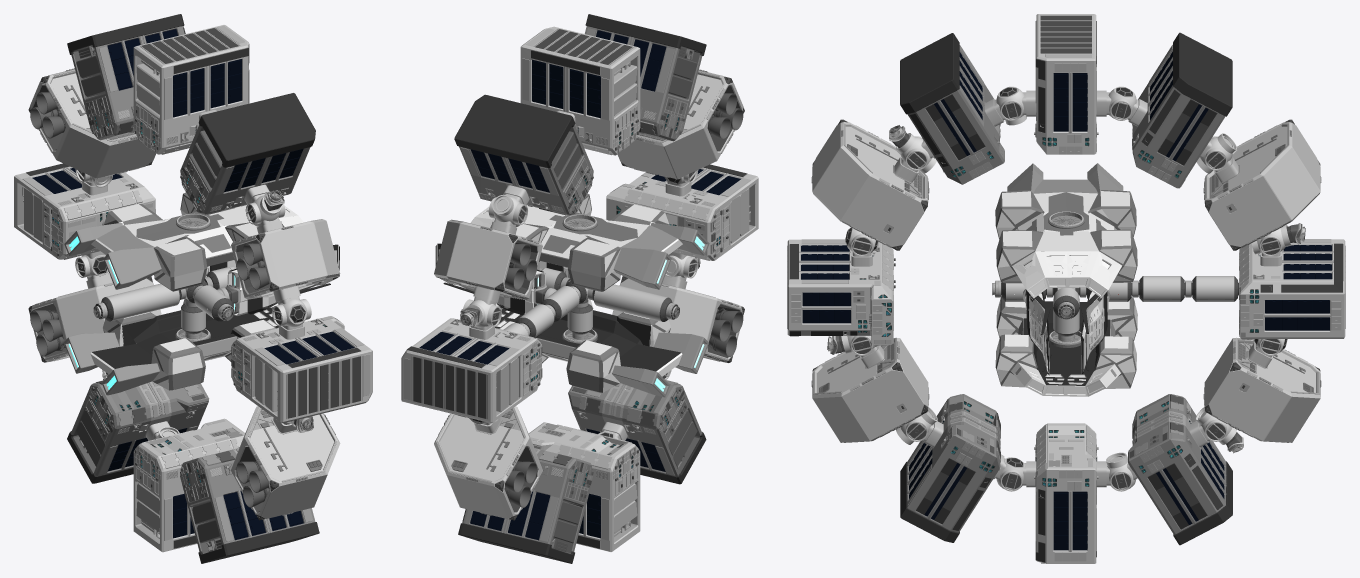
File: endurance.glb
The picture shows the model from 3 angles, left to right: view 1: azimuth 30°, elevation 25°; view 2: azimuth 150°, elevation 25°; view 3: azimuth 270°, elevation 25°; orthographic projection. The views are drawn at different scales.
Visible parts, largest first — view 1: Command_Tiles_0, Command_Non_Metal_0, Command_Metal_0, Engine_Tiles3_0, Object_5, Object_14, Object_7, Command_Tiles2_0, Engine_RollingShuttle_0, Object_18, Engine_Metal_0, Object_9 (+2 smaller); view 2: Command_Tiles_0, Command_Non_Metal_0, Command_Metal_0, Engine_Tiles3_0, Object_5, Object_14, Command_Tiles2_0, Object_7, Engine_RollingShuttle_0, Object_18, Engine_Metal_0, Engine_Non_Metal_0 (+2 smaller); view 3: Command_Tiles_0, Command_Non_Metal_0, Engine_Tiles3_0, Command_Metal_0, Object_14, Object_7, Object_9, Object_5, Engine_Non_Metal_0, Object_18, Command_Tiles2_0, Object_11 (+3 smaller).
Boxes of the visible parts, x1,y1,x2,y2 form: Command_Tiles_0: [14, 25, 372, 552]; Command_Non_Metal_0: [22, 25, 370, 549]; Command_Metal_0: [18, 14, 338, 563]; Engine_Tiles3_0: [30, 71, 340, 518]; Object_5: [64, 214, 318, 395]; Object_14: [103, 196, 336, 390]; Object_7: [103, 192, 289, 390]; Command_Tiles2_0: [141, 28, 360, 418]; Engine_RollingShuttle_0: [30, 92, 269, 507]; Object_18: [92, 307, 278, 368]; Engine_Metal_0: [28, 68, 330, 520]; Object_9: [90, 206, 338, 374]; Command_Tiles_0: [401, 26, 758, 551]; Command_Non_Metal_0: [403, 28, 750, 551]; Command_Metal_0: [450, 14, 754, 563]; Engine_Tiles3_0: [434, 72, 743, 519]; Object_5: [457, 215, 709, 397]; Object_14: [438, 196, 670, 392]; Command_Tiles2_0: [413, 29, 631, 418]; Object_7: [483, 193, 670, 392]; Engine_RollingShuttle_0: [504, 93, 743, 507]; Object_18: [495, 260, 680, 371]; Engine_Metal_0: [444, 69, 744, 520]; Engine_Non_Metal_0: [436, 70, 739, 509]; Command_Tiles_0: [787, 14, 1345, 563]; Command_Non_Metal_0: [787, 15, 1345, 563]; Engine_Tiles3_0: [812, 122, 1320, 442]; Command_Metal_0: [827, 32, 1305, 545]; Object_14: [995, 191, 1137, 388]; Object_7: [995, 190, 1137, 388]; Object_9: [1004, 193, 1129, 396]; Object_5: [995, 163, 1137, 376]; Engine_Non_Metal_0: [813, 123, 1319, 442]; Object_18: [1023, 301, 1110, 385]; Command_Tiles2_0: [1041, 16, 1091, 52]; Object_11: [1024, 256, 1109, 394].
Bounding box in the file's own units: 44.97 × 87.36 × 87.36.
22 materials, 10 textured.
